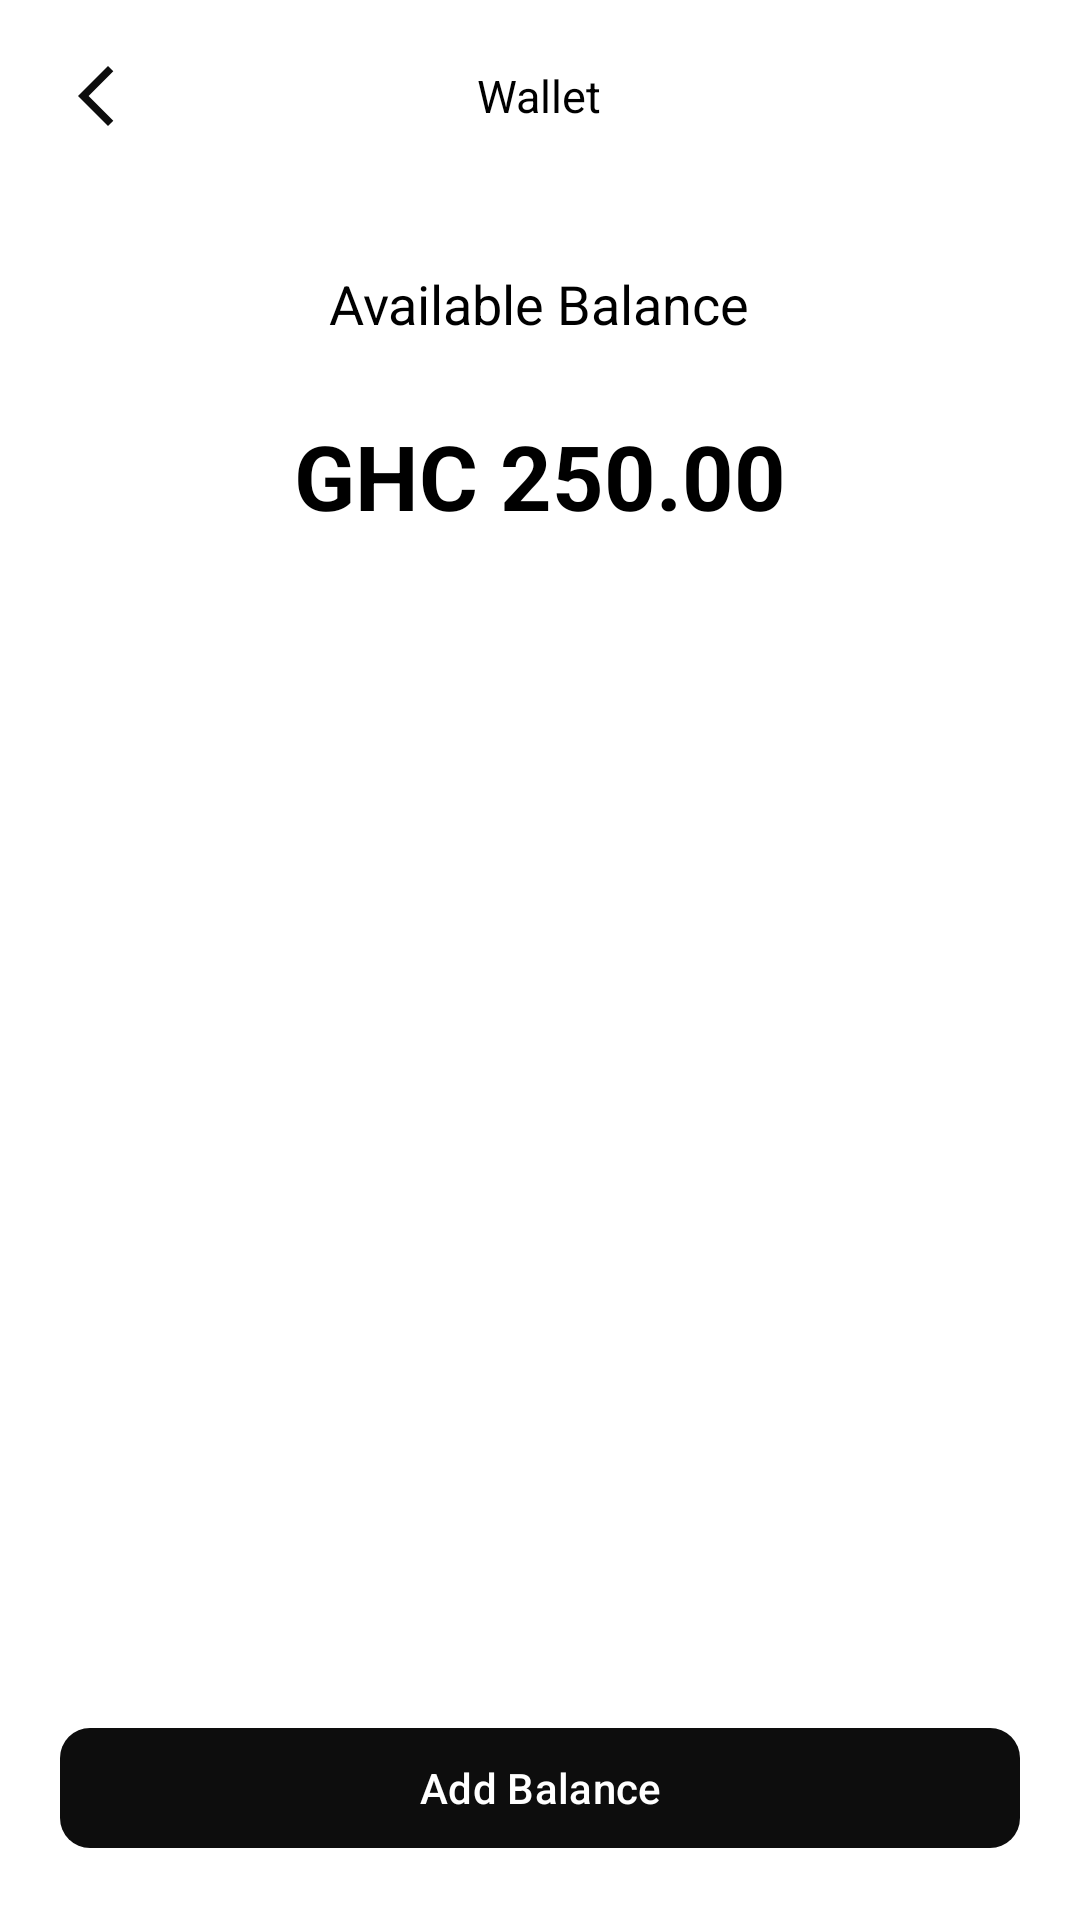

Screen size 1080x1920. Icon name, then its center in pixels as (x,y):
Arrow Back: (95,96)
